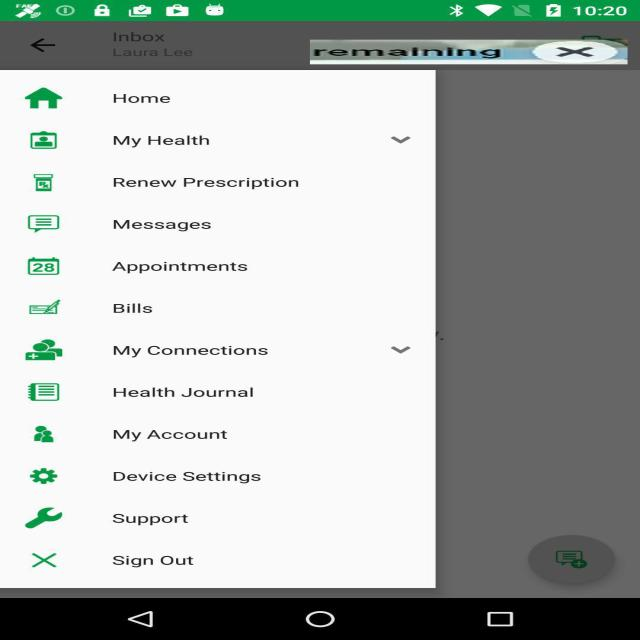misdirection: (310, 40, 627, 64)
